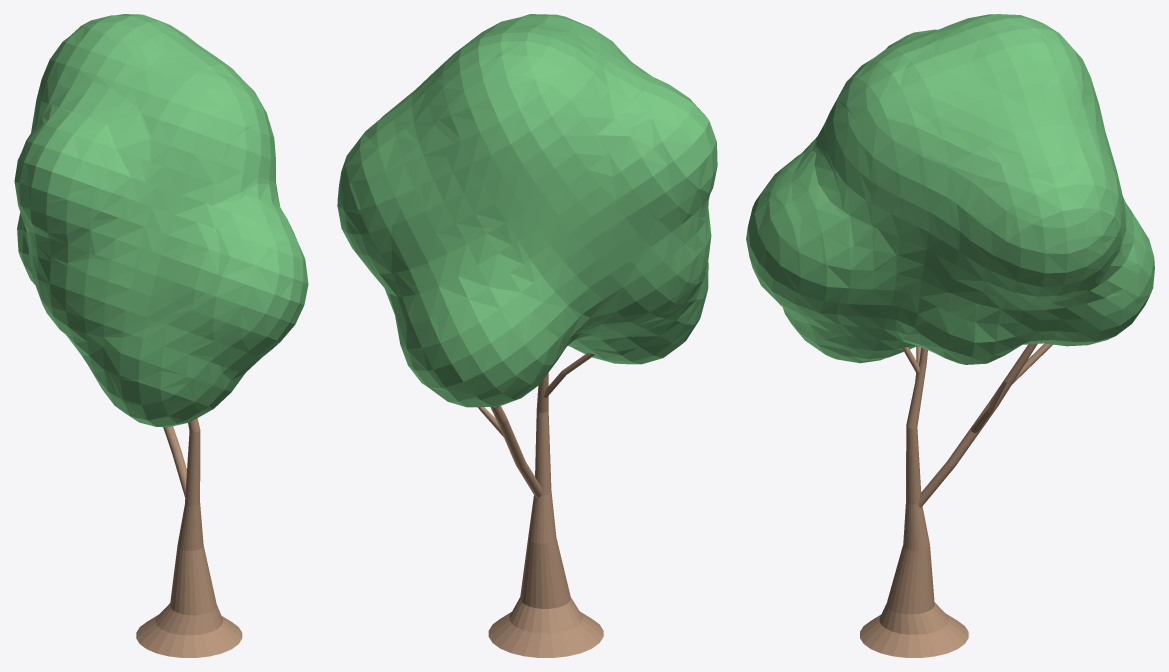
The model's file is Cartoon_Trees_Pack_Tree_6.glb.
3 views of the same model, side by side, from view 1: azimuth 30°, elevation 25°; view 2: azimuth 150°, elevation 25°; view 3: azimuth 270°, elevation 25° (orthographic). The views are drawn at different scales.
Visible parts, largest first — view 1: Canopy, Trunk; view 2: Canopy, Trunk; view 3: Canopy, Trunk.
Boxes of the visible parts, box(x1,y1,x2,y2) form: Canopy: box(14, 14, 308, 427); Trunk: box(136, 418, 242, 657); Canopy: box(337, 14, 717, 407); Trunk: box(478, 353, 603, 657); Canopy: box(746, 14, 1154, 364); Trunk: box(860, 343, 1052, 657).
Size of the model in its own units: 425 by 859 by 528.
